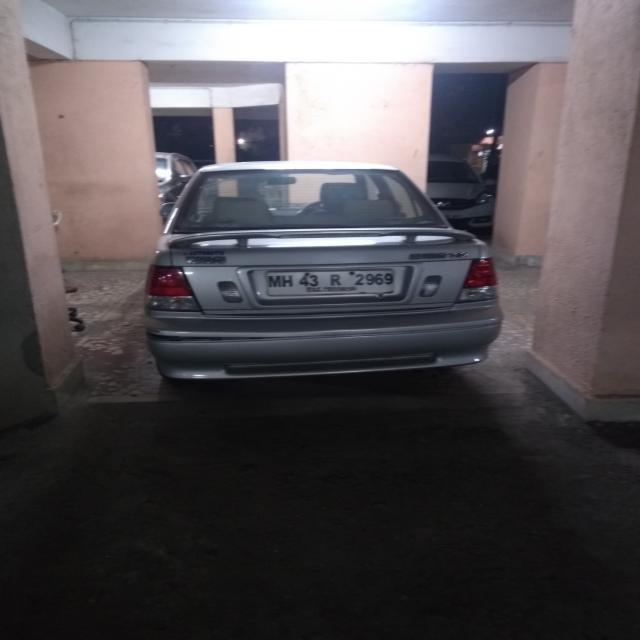Number-Plate: (268, 271, 396, 294)
